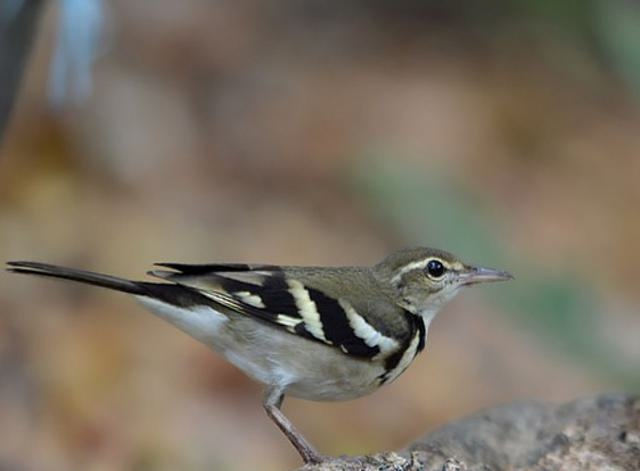wagtail: (99, 237, 496, 439)
